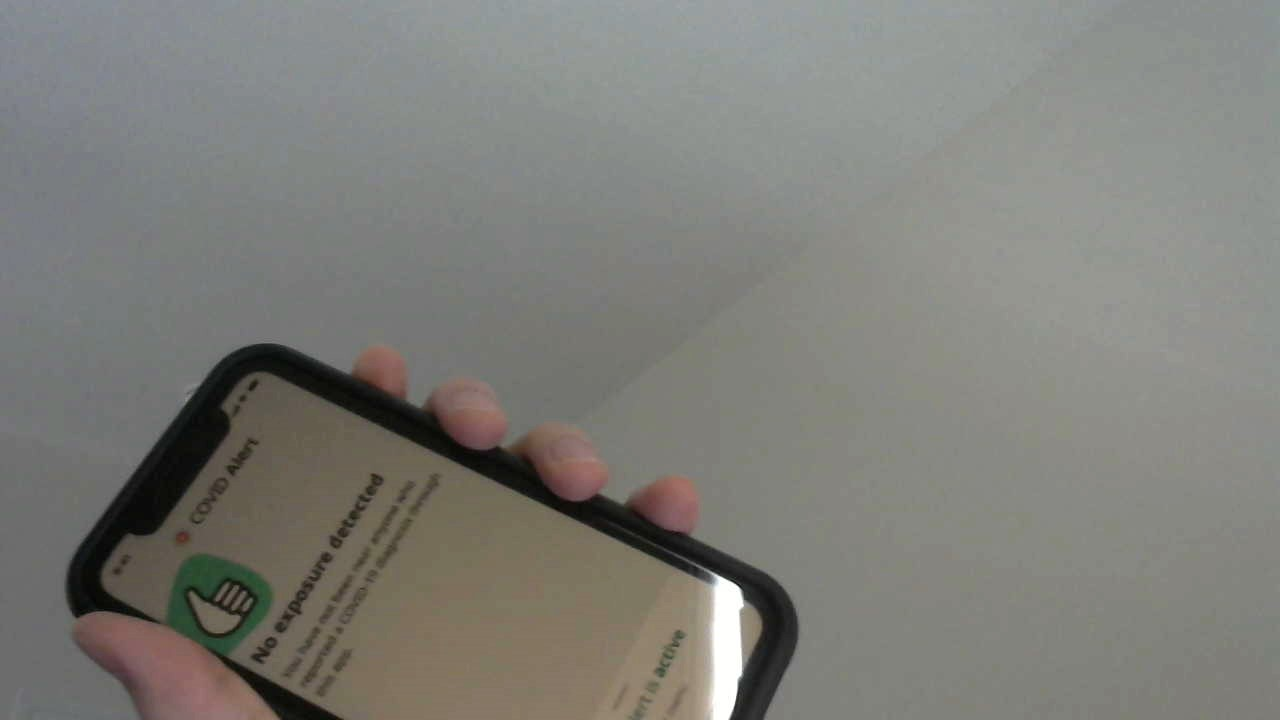Safe: (118, 446, 419, 668)
